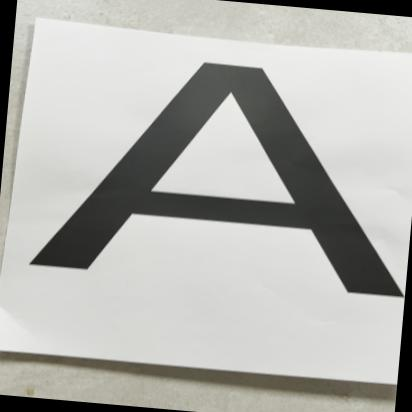seat: (10, 33, 412, 314)
